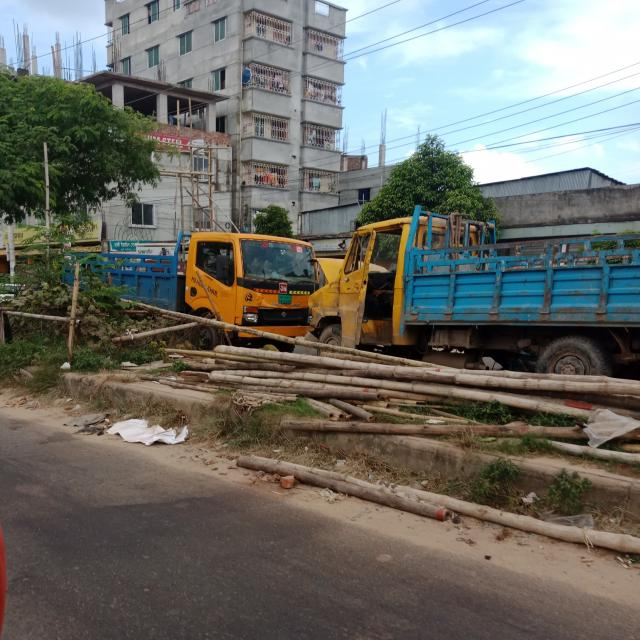truck: (315, 196, 640, 378), (59, 225, 323, 352)
